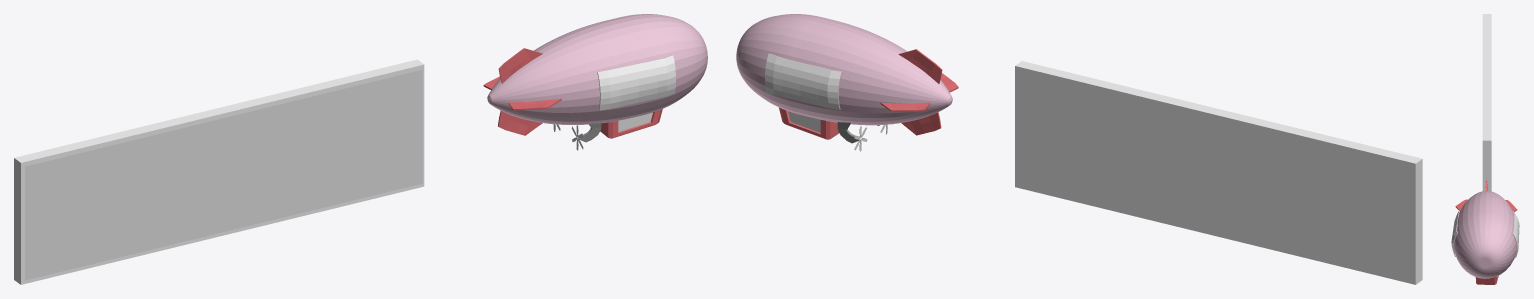
File: RIVERSIDE PLANE.fbx
3 renders of one model, left to right at view 1: azimuth 30°, elevation 25°; view 2: azimuth 150°, elevation 25°; view 3: azimuth 270°, elevation 25°, orthographic. The views are drawn at different scales.
Parts seen in each view (by area): view 1: Plane.008, Plane, Cube.035; view 2: Plane.009, Plane, Cube.035; view 3: Plane, Cube.035.
Boxes of the visible parts, x1,y1,x2,y2 form: Plane.008: (25,69,422,280); Plane: (483,14,707,150); Cube.035: (14,59,424,284); Plane.009: (1017,71,1412,280); Plane: (736,14,958,151); Cube.035: (1015,61,1422,284); Plane: (1451,180,1519,284); Cube.035: (1482,14,1491,191).
Bounding box in the file's own units: 215 × 36.75 × 28.92.
